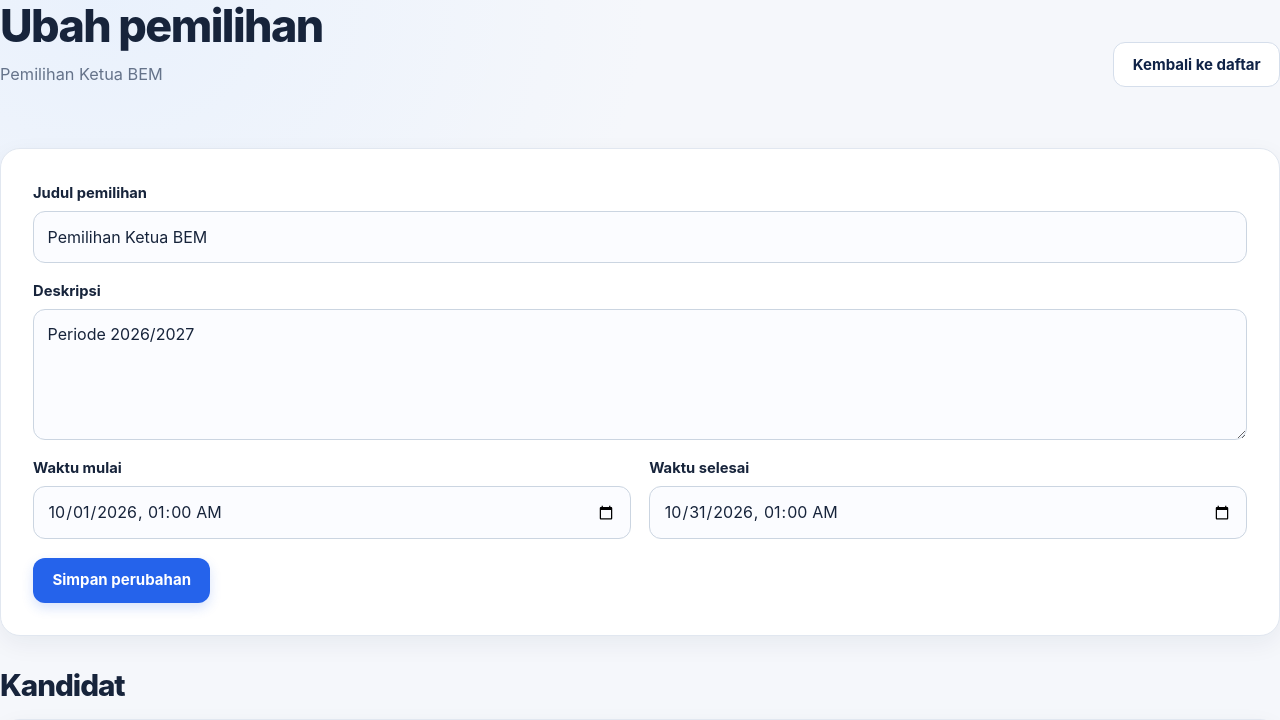
Test: ElectionFormPage › menampilkan error update dari server
Expected: the field labelled "Judul pemilihan" is shown, [33, 211, 1247, 263]
Click the button "Simpan perubahan" at (122, 580), box [33, 558, 210, 602]
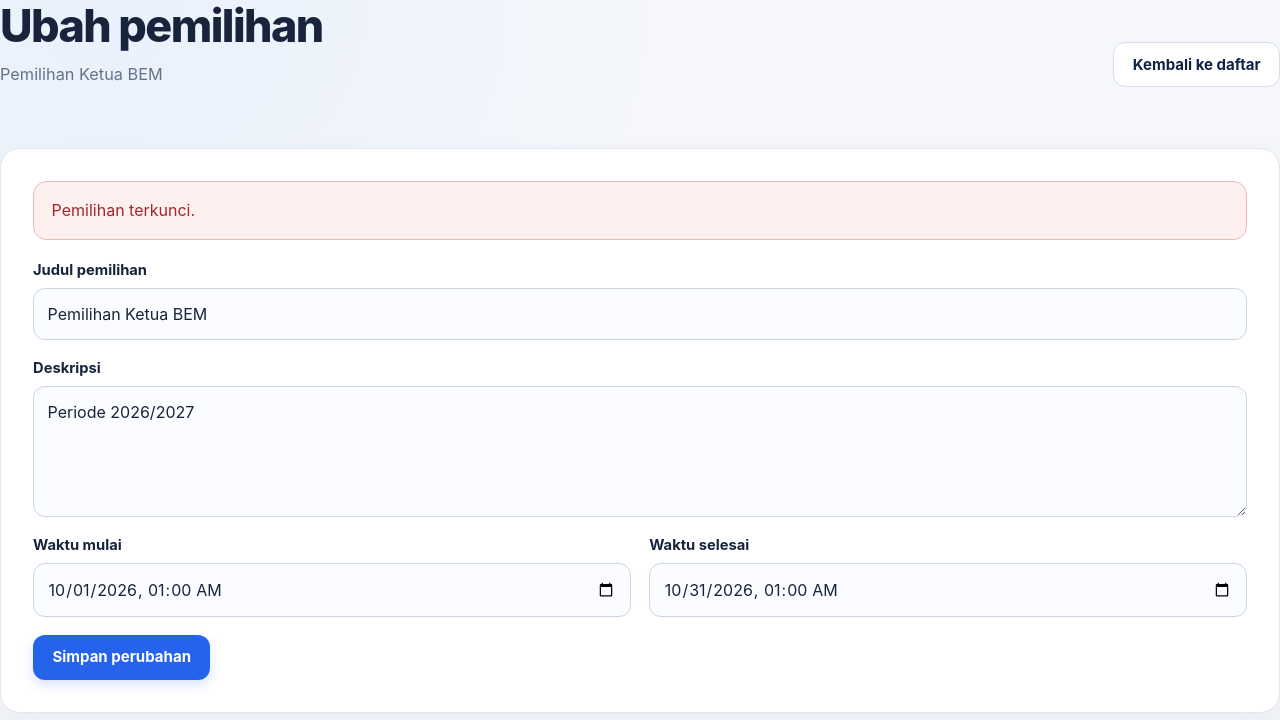
Expected: the message reads "Pemilihan terkunci.", [52, 200, 195, 220]
